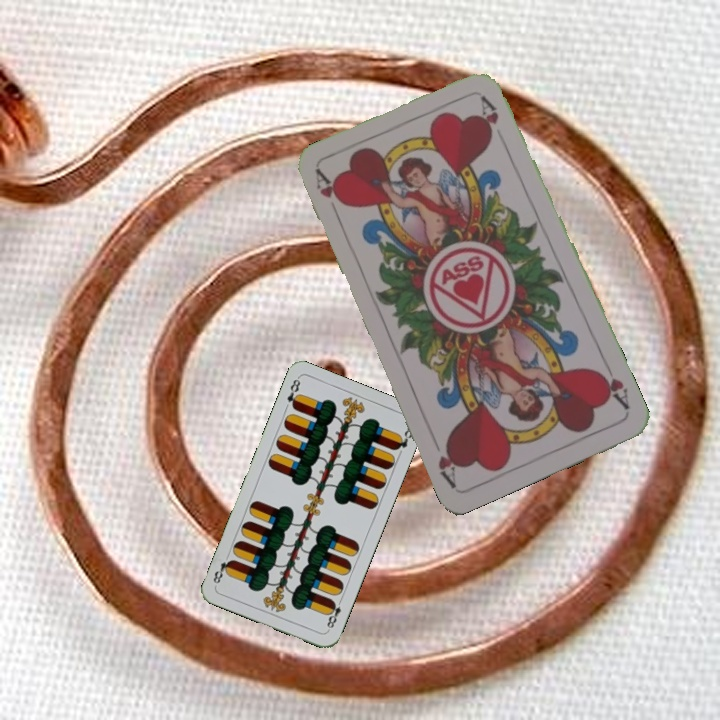E8: (323, 595, 345, 633), (283, 374, 303, 411)
HA: (593, 358, 632, 413), (311, 167, 346, 224)
